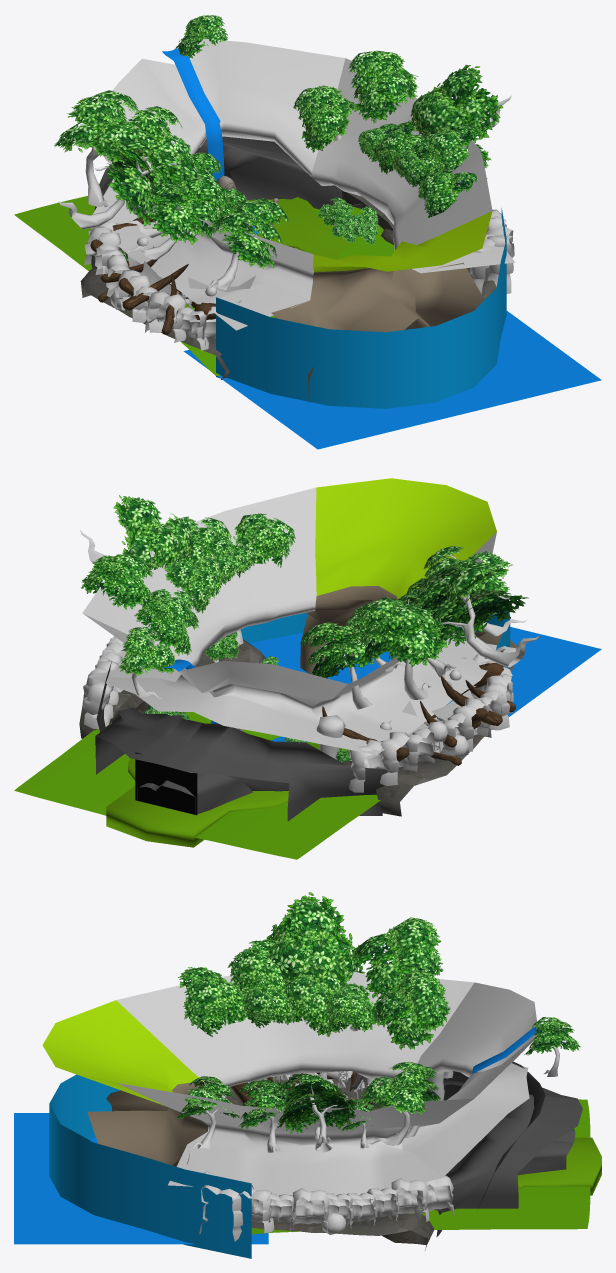
File: NewEnvironment_Export2.fbx
3 views of the same model, one above another, from view 1: azimuth 30°, elevation 25°; view 2: azimuth 150°, elevation 25°; view 3: azimuth 270°, elevation 25° (orthographic). The views are drawn at different scales.
Parts seen in each view (by area): view 1: pCube340, pCylinder13, pPlane9, Tree_w_Leaves_pPlane20 (×2), Tree_w_Leaves_pPlane23 (×2), Tree_w_Leaves_pPlane21 (×2), Tree_w_Leaves_pPlane22 (×2), polySurface90, Tree_w_Leaves_pPlane19 (×2), pPlane8, pCube338, pPlane12 (+11 smaller); view 2: pCube340, polySurface90, pPlane8, Tree_w_Leaves_pPlane20 (×2), Tree_w_Leaves_pPlane23 (×2), pPlane9, Tree_w_Leaves_pPlane19 (×2), pCube338, Tree_w_Leaves_pPlane22 (×2), Tree_w_Leaves_pPlane18 (×2), pPlane13, Tree_w_Leaves_pPlane21 (×2) (+14 smaller); view 3: pCube340, pCylinder13, polySurface90, Tree_w_Leaves_pPlane20 (×2), pPlane9, Tree_w_Leaves_pPlane23 (×2), pPlane8, Tree_w_Leaves_pPlane22 (×2), Tree_w_Leaves_pPlane19 (×2), Tree_w_Leaves_pPlane21 (×2), polySurface89, pCube338 (+16 smaller).
Part boxes in pixels (x1,y1,x2,y2): pCube340: (86,38,515,402); pCylinder13: (216,208,506,408); pPlane9: (183,311,601,449); Tree_w_Leaves_pPlane20 (×2): (58,64,511,229); Tree_w_Leaves_pPlane23 (×2): (54,50,418,216); Tree_w_Leaves_pPlane21 (×2): (127,125,490,259); Tree_w_Leaves_pPlane22 (×2): (209,171,497,290); polySurface90: (96,139,342,256); Tree_w_Leaves_pPlane19 (×2): (128,85,357,213); pPlane8: (14,196,394,375); pCube338: (247,197,352,259); pPlane12: (162,47,224,181); pCube340: (82,478,516,754); polySurface90: (95,707,388,821); pPlane8: (14,712,380,859); Tree_w_Leaves_pPlane20 (×2): (80,495,540,667); Tree_w_Leaves_pPlane23 (×2): (81,554,447,699); pPlane9: (249,627,601,716); Tree_w_Leaves_pPlane19 (×2): (134,597,380,709); pCube338: (106,722,347,847); Tree_w_Leaves_pPlane22 (×2): (231,513,526,636); Tree_w_Leaves_pPlane18 (×2): (163,556,459,676); pPlane13: (135,752,197,815); Tree_w_Leaves_pPlane21 (×2): (161,516,519,659); pCube340: (42,971,541,1199); pCylinder13: (49,1074,251,1258); polySurface90: (436,1078,582,1236); Tree_w_Leaves_pPlane20 (×2): (266,892,365,1152); pPlane9: (14,1113,268,1244); Tree_w_Leaves_pPlane23 (×2): (347,917,443,1145); pPlane8: (251,1099,590,1234); Tree_w_Leaves_pPlane22 (×2): (175,967,247,1148); Tree_w_Leaves_pPlane19 (×2): (371,969,450,1139); Tree_w_Leaves_pPlane21 (×2): (227,938,290,1152); polySurface89: (251,1209,443,1250); pCube338: (517,1137,601,1195).
Size of the model in its own units: 2375 by 1083 by 2804.
